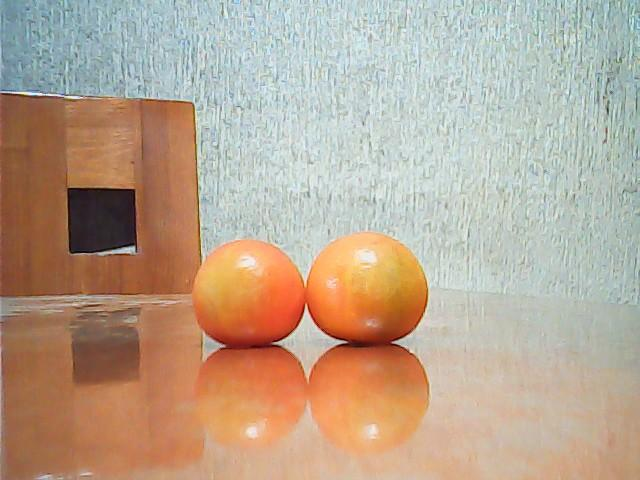verde: (308, 231, 431, 344), (194, 238, 306, 345)
